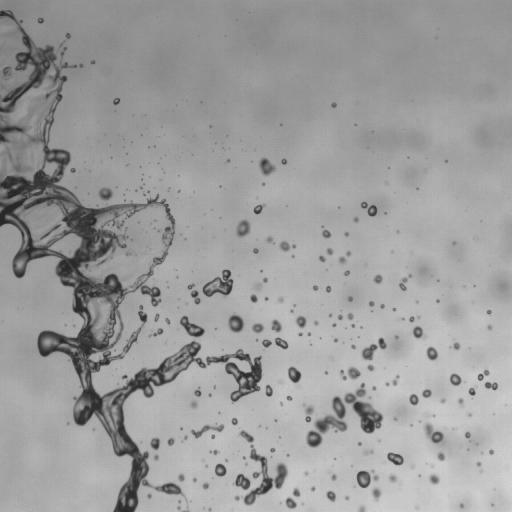droplet: (201, 269, 233, 298), (354, 469, 379, 488), (423, 422, 444, 443), (227, 312, 245, 332), (258, 157, 276, 176), (287, 366, 301, 388), (339, 366, 361, 380), (235, 219, 250, 238), (407, 326, 427, 340), (360, 201, 377, 217), (387, 452, 404, 466), (98, 187, 113, 201), (278, 240, 296, 251), (338, 250, 351, 265), (426, 346, 438, 361), (214, 463, 226, 477), (371, 486, 381, 502), (270, 319, 282, 332), (449, 373, 461, 386), (285, 496, 297, 509), (253, 203, 266, 214), (295, 315, 306, 328), (408, 393, 419, 405), (321, 225, 331, 238), (251, 323, 264, 333), (150, 437, 160, 450), (428, 473, 439, 484), (33, 37, 44, 48), (268, 154, 279, 165), (81, 197, 92, 208), (94, 197, 105, 208), (246, 212, 257, 223), (227, 220, 238, 231), (11, 239, 22, 250), (27, 258, 38, 269), (64, 294, 75, 305), (143, 304, 154, 315), (74, 315, 85, 326), (218, 318, 229, 329), (144, 319, 155, 330), (67, 326, 78, 337), (265, 329, 276, 340), (417, 338, 428, 349), (168, 344, 179, 355), (259, 347, 270, 358), (59, 353, 70, 364), (356, 358, 367, 369), (359, 370, 370, 381), (466, 375, 477, 386), (347, 379, 358, 390), (457, 382, 468, 393), (474, 382, 485, 393), (94, 384, 105, 395), (247, 390, 258, 401), (121, 398, 132, 409), (371, 400, 382, 411), (311, 409, 322, 420), (350, 413, 361, 424), (88, 414, 99, 425), (320, 430, 331, 441), (101, 435, 112, 446), (137, 441, 148, 452), (239, 441, 250, 452), (434, 441, 445, 452), (121, 453, 132, 464), (266, 467, 277, 478), (377, 468, 388, 479), (120, 469, 131, 480), (225, 469, 236, 480), (282, 476, 293, 487), (280, 484, 291, 495), (135, 485, 146, 496), (484, 382, 498, 390), (468, 384, 477, 396), (326, 490, 335, 502), (422, 389, 432, 399), (265, 384, 273, 396), (292, 486, 300, 498), (373, 274, 382, 284), (328, 471, 337, 480), (8, 57, 17, 66), (252, 164, 261, 173), (105, 197, 114, 206), (323, 237, 332, 246), (333, 248, 342, 257), (144, 278, 153, 287), (123, 292, 132, 301), (171, 317, 180, 326), (156, 318, 165, 327), (262, 320, 271, 329), (242, 321, 251, 330), (304, 321, 313, 330), (331, 327, 340, 336), (277, 329, 286, 338), (117, 337, 126, 346), (109, 346, 118, 355), (373, 347, 382, 356), (196, 349, 205, 358), (50, 350, 59, 359), (259, 362, 268, 371), (257, 378, 266, 387), (73, 386, 82, 395), (344, 402, 353, 411), (223, 421, 232, 430), (236, 421, 245, 430), (231, 424, 240, 433), (326, 424, 335, 433), (124, 425, 133, 434), (416, 427, 425, 436), (358, 430, 367, 439), (172, 431, 181, 440), (298, 431, 307, 440), (129, 432, 138, 441), (208, 439, 217, 448), (168, 492, 177, 501), (255, 493, 264, 502), (265, 236, 275, 244), (194, 386, 202, 396), (437, 451, 445, 461), (362, 448, 373, 455), (276, 295, 285, 303), (167, 437, 175, 446), (366, 364, 376, 371), (189, 505, 200, 511), (243, 505, 254, 511), (230, 417, 238, 425), (190, 399, 197, 408), (457, 398, 464, 407), (357, 504, 366, 511), (250, 294, 257, 302), (178, 473, 185, 481), (326, 248, 333, 255), (318, 255, 325, 262), (202, 482, 209, 489), (1, 15, 8, 22), (27, 31, 34, 38), (20, 45, 27, 52), (82, 59, 89, 66), (59, 68, 66, 75), (47, 142, 54, 149), (253, 158, 260, 165), (63, 164, 70, 171), (268, 171, 275, 178), (261, 174, 268, 181), (236, 214, 243, 221), (2, 222, 9, 229), (248, 223, 255, 230), (243, 233, 250, 240), (274, 237, 281, 244), (11, 246, 18, 253), (167, 246, 174, 253), (53, 256, 60, 263), (341, 263, 348, 270), (152, 265, 159, 272), (53, 275, 60, 282), (195, 284, 202, 291), (318, 284, 325, 291), (66, 285, 73, 292), (197, 291, 204, 298), (143, 293, 150, 300), (256, 294, 263, 301), (373, 300, 380, 307), (372, 303, 379, 310), (384, 303, 391, 310), (117, 304, 124, 311), (153, 305, 160, 312), (235, 309, 242, 316), (293, 310, 300, 317), (223, 312, 230, 319), (146, 313, 153, 320), (330, 315, 337, 322), (412, 319, 419, 326), (408, 321, 415, 328), (47, 324, 54, 331), (294, 325, 301, 332), (300, 326, 307, 333), (237, 329, 244, 336), (186, 335, 193, 342), (194, 335, 201, 342), (214, 350, 221, 357), (124, 351, 131, 358), (363, 358, 370, 365), (190, 360, 197, 367), (152, 361, 159, 368), (218, 361, 225, 368), (67, 362, 74, 369), (90, 371, 97, 378), (127, 372, 134, 379), (334, 373, 341, 380), (227, 374, 234, 381), (482, 375, 489, 382), (119, 379, 126, 386), (231, 382, 238, 389), (363, 384, 370, 391), (259, 386, 266, 393), (135, 388, 142, 395), (417, 394, 424, 401), (355, 395, 362, 402), (122, 410, 129, 417), (329, 410, 336, 417), (67, 415, 74, 422), (341, 415, 348, 422), (427, 417, 434, 424), (69, 420, 76, 427), (193, 424, 200, 431), (432, 424, 439, 431), (97, 425, 104, 432), (204, 429, 211, 436), (239, 436, 246, 443), (424, 437, 431, 444), (300, 438, 307, 445), (158, 440, 165, 447), (316, 443, 323, 450), (311, 445, 318, 452), (138, 446, 145, 453), (147, 447, 154, 454), (155, 447, 162, 454), (255, 448, 262, 455), (243, 449, 250, 456), (431, 455, 438, 462), (145, 457, 152, 464), (285, 465, 292, 472), (433, 469, 440, 476), (244, 471, 251, 478), (144, 473, 151, 480), (184, 474, 191, 481), (158, 478, 165, 485), (173, 478, 180, 485), (196, 478, 203, 485), (437, 478, 444, 485), (368, 480, 375, 487), (425, 480, 432, 487), (390, 481, 397, 488), (269, 485, 276, 492), (158, 490, 165, 497), (109, 500, 116, 507), (347, 312, 353, 320), (164, 317, 170, 325), (154, 313, 159, 322), (37, 17, 44, 23), (113, 98, 119, 105), (325, 285, 331, 292), (408, 316, 415, 322), (286, 394, 292, 401), (440, 397, 447, 403), (464, 431, 470, 438), (281, 158, 287, 164), (353, 216, 359, 222), (337, 314, 343, 320), (486, 324, 492, 330), (152, 454, 158, 460), (0, 141, 4, 150), (65, 32, 70, 39), (312, 285, 319, 290), (486, 309, 491, 316), (331, 102, 336, 108), (141, 250, 147, 255), (344, 270, 350, 275), (347, 296, 353, 301), (368, 301, 374, 306), (313, 320, 318, 326), (350, 344, 356, 349), (277, 379, 283, 384), (210, 433, 215, 439), (489, 449, 494, 455), (476, 461, 481, 467), (410, 463, 415, 469), (152, 218, 159, 222), (133, 507, 140, 511), (288, 507, 295, 511), (351, 507, 358, 511), (364, 507, 371, 511), (70, 167, 75, 172), (253, 248, 258, 253), (380, 304, 385, 309), (372, 385, 377, 390), (357, 441, 362, 446), (192, 477, 197, 482), (310, 486, 315, 491), (344, 495, 349, 500), (459, 503, 464, 508), (13, 13, 18, 18), (20, 22, 25, 27), (48, 41, 53, 46), (40, 44, 45, 49), (63, 50, 68, 55), (66, 75, 71, 80), (62, 81, 67, 86), (53, 110, 58, 115), (62, 145, 67, 150), (69, 153, 74, 158), (137, 180, 142, 185), (142, 185, 147, 190), (68, 186, 73, 191), (137, 189, 142, 194), (150, 194, 155, 199), (125, 198, 130, 203), (376, 208, 381, 213), (169, 209, 174, 214), (351, 212, 356, 217), (348, 215, 353, 220), (370, 215, 375, 220), (174, 219, 179, 224), (352, 221, 357, 226), (327, 227, 332, 232), (16, 231, 21, 236), (263, 232, 268, 237), (321, 236, 326, 241), (287, 240, 292, 245), (267, 242, 272, 247), (329, 244, 334, 249), (288, 247, 293, 252), (279, 249, 284, 254), (340, 251, 345, 256), (322, 252, 327, 257), (42, 255, 47, 260), (164, 255, 169, 260), (344, 255, 349, 260), (316, 259, 321, 264), (7, 263, 12, 268), (9, 271, 14, 276), (23, 271, 28, 276), (217, 272, 222, 277), (260, 272, 265, 277), (380, 272, 385, 277), (402, 272, 407, 277), (370, 273, 375, 278), (208, 275, 213, 280), (257, 277, 262, 282), (380, 279, 385, 284), (200, 280, 205, 285), (313, 280, 318, 285), (261, 281, 266, 286), (403, 281, 408, 286), (373, 282, 378, 287), (191, 285, 196, 290), (330, 285, 335, 290), (135, 288, 140, 293), (159, 288, 164, 293), (186, 288, 191, 293), (229, 289, 234, 294), (214, 291, 219, 296), (279, 291, 284, 296), (158, 293, 163, 298), (189, 296, 194, 301), (245, 296, 250, 301), (342, 296, 347, 301), (369, 296, 374, 301), (363, 300, 368, 305), (157, 301, 162, 306), (277, 302, 282, 307), (141, 308, 146, 313), (227, 311, 232, 316), (74, 312, 79, 317), (301, 312, 306, 317), (177, 313, 182, 318), (342, 314, 347, 319), (313, 315, 318, 320), (404, 315, 409, 320), (276, 317, 281, 322), (188, 318, 193, 323), (255, 318, 260, 323), (317, 318, 322, 323), (350, 318, 355, 323), (137, 319, 142, 324), (335, 319, 340, 324), (194, 320, 199, 325), (490, 321, 495, 326), (354, 322, 359, 327), (482, 322, 487, 327), (419, 323, 424, 328), (280, 325, 285, 330), (132, 326, 137, 331), (180, 326, 185, 331), (152, 327, 157, 332), (421, 328, 426, 333), (486, 329, 491, 334), (33, 333, 38, 338), (409, 333, 414, 338), (417, 336, 422, 341), (337, 337, 342, 342), (257, 338, 262, 343), (383, 338, 388, 343), (32, 339, 37, 344), (373, 339, 378, 344), (457, 339, 462, 344), (270, 341, 275, 346), (426, 342, 431, 347), (433, 344, 438, 349), (276, 345, 281, 350), (458, 345, 463, 350), (33, 346, 38, 351), (422, 346, 427, 351), (435, 347, 440, 352), (450, 347, 455, 352), (231, 348, 236, 353), (242, 348, 247, 353), (110, 351, 115, 356), (422, 352, 427, 357), (436, 353, 441, 358), (40, 355, 45, 360), (424, 356, 429, 361), (432, 358, 437, 363), (109, 360, 114, 365), (209, 361, 214, 366), (99, 364, 104, 369), (197, 366, 202, 371), (296, 366, 301, 371), (134, 367, 139, 372), (478, 368, 483, 373), (299, 370, 304, 375), (343, 370, 348, 375), (283, 371, 288, 376), (457, 371, 462, 376), (176, 373, 181, 378), (445, 373, 450, 378), (459, 374, 464, 379), (298, 377, 303, 382), (396, 378, 401, 383), (445, 378, 450, 383), (287, 379, 292, 384), (162, 382, 167, 387), (388, 382, 393, 387), (425, 384, 430, 389), (451, 384, 456, 389), (496, 384, 501, 389), (420, 385, 425, 390), (199, 387, 204, 392), (208, 387, 213, 392), (487, 387, 492, 392), (430, 388, 435, 393), (474, 388, 479, 393), (252, 390, 257, 395), (149, 395, 154, 400), (193, 395, 198, 400), (239, 395, 244, 400), (444, 395, 449, 400), (425, 396, 430, 401), (282, 398, 287, 403), (70, 399, 75, 404), (185, 399, 190, 404), (453, 399, 458, 404), (327, 400, 332, 405), (305, 401, 310, 406), (406, 401, 411, 406), (441, 402, 446, 407), (187, 406, 192, 411), (301, 412, 306, 417), (379, 419, 384, 424), (208, 421, 213, 426), (373, 427, 378, 432), (221, 428, 226, 433), (358, 428, 363, 433), (212, 429, 217, 434), (247, 430, 252, 435), (152, 433, 157, 438), (189, 433, 194, 438), (173, 439, 178, 444), (251, 439, 256, 444), (437, 440, 442, 445), (359, 444, 364, 449), (215, 445, 220, 450), (108, 446, 113, 451), (483, 449, 488, 454), (443, 452, 448, 457), (367, 453, 372, 458), (113, 454, 118, 459), (157, 455, 162, 460), (476, 456, 481, 461), (219, 459, 224, 464), (440, 459, 445, 464), (256, 460, 261, 465), (388, 461, 393, 466), (223, 462, 228, 467), (480, 462, 485, 467), (210, 464, 215, 469), (394, 464, 399, 469), (474, 465, 479, 470), (358, 466, 363, 471), (331, 468, 336, 473), (374, 469, 379, 474), (210, 470, 215, 475), (352, 471, 357, 476), (221, 474, 226, 479), (217, 475, 222, 480), (231, 475, 236, 480), (335, 475, 340, 480), (164, 478, 169, 483), (352, 479, 357, 484), (355, 484, 360, 489), (115, 486, 120, 491), (180, 487, 185, 492), (245, 488, 250, 493), (298, 488, 303, 493), (332, 488, 337, 493), (321, 491, 326, 496), (334, 494, 339, 499), (378, 494, 383, 499), (291, 495, 296, 500), (281, 496, 286, 501), (238, 497, 243, 502), (325, 498, 330, 503), (281, 501, 286, 506), (180, 504, 185, 509), (297, 332, 303, 336), (305, 332, 311, 336), (0, 37, 3, 44), (90, 60, 95, 64), (225, 158, 230, 162), (264, 296, 268, 301), (290, 309, 295, 313), (332, 322, 336, 327), (350, 323, 355, 327), (333, 338, 338, 342), (393, 416, 397, 421), (270, 448, 275, 452), (382, 460, 387, 464), (304, 470, 308, 475), (147, 493, 151, 498), (79, 63, 83, 67), (261, 182, 265, 186), (396, 229, 400, 233), (344, 232, 348, 236), (452, 241, 456, 245), (328, 313, 332, 317), (394, 335, 398, 339), (324, 370, 328, 374), (385, 382, 389, 386), (479, 469, 483, 473), (300, 502, 304, 506), (280, 401, 283, 406), (468, 412, 471, 417), (452, 427, 457, 430), (376, 439, 381, 442), (225, 458, 228, 463), (244, 461, 247, 466), (429, 464, 434, 467), (203, 508, 208, 511), (458, 508, 463, 511), (384, 181, 388, 184), (137, 219, 140, 223), (149, 222, 152, 226), (291, 254, 294, 258), (462, 285, 466, 288), (436, 299, 439, 303), (392, 308, 396, 311), (417, 315, 420, 319), (360, 325, 363, 329), (208, 393, 211, 397), (367, 396, 371, 399), (66, 421, 69, 425), (92, 427, 95, 431), (286, 453, 289, 457), (242, 456, 246, 459), (205, 464, 208, 468), (208, 507, 211, 511), (414, 506, 418, 509), (0, 6, 2, 11), (0, 66, 2, 71), (0, 162, 2, 167), (354, 123, 357, 126), (387, 166, 390, 169), (139, 186, 142, 189), (416, 187, 419, 190), (337, 206, 340, 209), (390, 250, 393, 253), (436, 279, 439, 282), (166, 285, 169, 288), (415, 300, 418, 303), (185, 302, 188, 305), (293, 304, 296, 307), (64, 323, 67, 326), (72, 324, 75, 327), (214, 327, 217, 330), (255, 338, 258, 341), (274, 419, 277, 422), (418, 420, 421, 423), (258, 424, 261, 427), (480, 451, 483, 454), (333, 457, 336, 460), (350, 464, 353, 467), (418, 474, 421, 477), (279, 501, 282, 504), (491, 503, 494, 506), (39, 14, 42, 17), (42, 16, 45, 19), (21, 17, 24, 20), (34, 19, 37, 22), (39, 22, 42, 25), (66, 29, 69, 32), (63, 31, 66, 34), (69, 32, 72, 35), (63, 36, 66, 39), (69, 36, 72, 39), (90, 57, 93, 60), (80, 60, 83, 63), (94, 60, 97, 63), (67, 62, 70, 65), (90, 63, 93, 66), (2, 64, 5, 67), (76, 64, 79, 67), (59, 91, 62, 94), (115, 94, 118, 97), (111, 96, 114, 99), (58, 100, 61, 103), (118, 100, 121, 103), (329, 100, 332, 103), (110, 101, 113, 104), (115, 103, 118, 106), (335, 104, 338, 107), (330, 106, 333, 109), (354, 120, 357, 123), (51, 122, 54, 125), (276, 122, 279, 125), (205, 124, 208, 127), (352, 125, 355, 128), (209, 127, 212, 130), (149, 144, 152, 147), (127, 152, 130, 155), (444, 156, 447, 159), (229, 157, 232, 160), (223, 158, 226, 161), (447, 159, 450, 162), (286, 160, 289, 163), (444, 162, 447, 165), (280, 163, 283, 166), (127, 164, 130, 167), (74, 167, 77, 170), (72, 171, 75, 174), (139, 174, 142, 177), (137, 177, 140, 180), (142, 178, 145, 181), (218, 181, 221, 184), (258, 182, 261, 185), (264, 183, 267, 186), (221, 184, 224, 187), (417, 184, 420, 187), (261, 185, 264, 188), (136, 186, 139, 189), (216, 186, 219, 189), (412, 186, 415, 189), (131, 188, 134, 191), (168, 188, 171, 191), (174, 188, 177, 191), (415, 189, 418, 192), (177, 192, 180, 195), (156, 198, 159, 201), (359, 199, 362, 202), (132, 200, 135, 203), (256, 201, 259, 204), (253, 203, 256, 206), (357, 203, 360, 206), (375, 204, 378, 207), (364, 207, 367, 210), (250, 208, 253, 211), (260, 209, 263, 212), (251, 211, 254, 214), (257, 212, 260, 215), (344, 228, 347, 231), (348, 232, 351, 235), (172, 233, 175, 236), (342, 234, 345, 237), (272, 238, 275, 241), (171, 239, 174, 242), (169, 244, 172, 247), (295, 244, 298, 247), (255, 245, 258, 248), (250, 247, 253, 250), (349, 249, 352, 252), (257, 250, 260, 253), (250, 251, 253, 254), (294, 254, 297, 257), (224, 266, 227, 269), (259, 266, 262, 269), (411, 272, 414, 275), (347, 273, 350, 276), (172, 275, 175, 278), (435, 276, 438, 279), (267, 278, 270, 281), (439, 278, 442, 281), (188, 281, 191, 284), (436, 281, 439, 284), (473, 281, 476, 284), (167, 282, 170, 285), (327, 282, 330, 285), (469, 283, 472, 286), (184, 284, 187, 287), (309, 285, 312, 288), (397, 286, 400, 289), (473, 286, 476, 289), (312, 289, 315, 292), (315, 289, 318, 292), (325, 291, 328, 294), (328, 291, 331, 294), (266, 294, 269, 297), (266, 299, 269, 302), (351, 299, 354, 302), (432, 299, 435, 302), (439, 299, 442, 302), (292, 300, 295, 303), (347, 300, 350, 303), (380, 300, 383, 303), (418, 300, 421, 303), (383, 302, 386, 305), (436, 302, 439, 305), (392, 304, 395, 307), (290, 306, 293, 309), (369, 306, 372, 309), (383, 306, 386, 309), (487, 306, 490, 309), (395, 307, 398, 310), (287, 308, 290, 311), (391, 310, 394, 313), (483, 310, 486, 313), (326, 311, 329, 314), (370, 311, 373, 314), (490, 312, 493, 315), (400, 314, 403, 317), (136, 315, 139, 318), (167, 316, 170, 319), (169, 319, 172, 322), (400, 319, 403, 322), (213, 324, 216, 327), (362, 324, 365, 327), (334, 325, 337, 328), (348, 325, 351, 328), (140, 327, 143, 330), (351, 327, 354, 330), (359, 328, 362, 331), (215, 329, 218, 332), (161, 331, 164, 334), (310, 331, 313, 334), (395, 332, 398, 335), (320, 334, 323, 337), (150, 335, 153, 338), (298, 335, 301, 338), (307, 335, 310, 338), (335, 335, 338, 338), (331, 336, 334, 339), (136, 337, 139, 340), (283, 337, 286, 340), (397, 337, 400, 340), (317, 338, 320, 341), (286, 340, 289, 343), (309, 340, 312, 343), (333, 341, 336, 344), (351, 341, 354, 344), (450, 343, 453, 346), (261, 345, 264, 348), (308, 345, 311, 348), (349, 347, 352, 350), (122, 356, 125, 359), (326, 368, 329, 371), (337, 368, 340, 371), (488, 369, 491, 372), (321, 371, 324, 374), (121, 372, 124, 375), (474, 374, 477, 377), (341, 379, 344, 382), (382, 380, 385, 383), (372, 382, 375, 385), (269, 384, 272, 387), (383, 384, 386, 387), (215, 385, 218, 388), (375, 387, 378, 390), (210, 391, 213, 394), (271, 392, 274, 395), (289, 393, 292, 396), (264, 394, 267, 397), (470, 394, 473, 397), (268, 395, 271, 398), (283, 395, 286, 398), (207, 396, 210, 399), (228, 398, 231, 401), (276, 402, 279, 405), (219, 409, 222, 412), (214, 411, 217, 414), (430, 411, 433, 414), (433, 411, 436, 414), (471, 413, 474, 416), (232, 414, 235, 417), (274, 415, 277, 418), (395, 415, 398, 418), (434, 415, 437, 418), (468, 416, 471, 419), (236, 417, 239, 420), (302, 418, 305, 421), (271, 419, 274, 422), (276, 419, 279, 422), (391, 419, 394, 422), (409, 420, 412, 423), (230, 423, 233, 426), (261, 424, 264, 427), (409, 426, 412, 429), (176, 427, 179, 430), (337, 429, 340, 432), (462, 431, 465, 434), (181, 434, 184, 437), (280, 434, 283, 437), (462, 435, 465, 438), (275, 436, 278, 439), (465, 437, 468, 440), (211, 438, 214, 441), (278, 438, 281, 441), (183, 439, 186, 442), (354, 441, 357, 444), (270, 444, 273, 447), (368, 446, 371, 449), (491, 446, 494, 449), (274, 447, 277, 450), (373, 449, 376, 452), (393, 450, 396, 453), (493, 450, 496, 453), (271, 451, 274, 454), (288, 451, 291, 454), (283, 452, 286, 455), (491, 453, 494, 456), (332, 454, 335, 457), (226, 456, 229, 459), (239, 456, 242, 459), (335, 456, 338, 459), (242, 459, 245, 462), (332, 459, 335, 462), (201, 463, 204, 466), (473, 463, 476, 466), (302, 468, 305, 471), (301, 472, 304, 475), (415, 472, 418, 475), (307, 473, 310, 476), (195, 475, 198, 478), (416, 476, 419, 479), (309, 484, 312, 487), (206, 487, 209, 490), (314, 487, 317, 490), (344, 492, 347, 495), (348, 496, 351, 499), (186, 497, 189, 500), (344, 499, 347, 502), (460, 500, 463, 503), (491, 500, 494, 503), (187, 501, 190, 504), (176, 502, 179, 505), (487, 502, 490, 505), (463, 504, 466, 507), (491, 506, 494, 509), (187, 507, 190, 510), (213, 385, 215, 389), (280, 123, 282, 126), (209, 125, 212, 127), (110, 156, 112, 159), (444, 160, 447, 162), (126, 163, 128, 166), (134, 189, 137, 191), (147, 190, 149, 193), (384, 212, 387, 214), (260, 269, 262, 272), (473, 284, 475, 287), (370, 310, 373, 312), (344, 327, 347, 329), (221, 348, 223, 351), (218, 411, 220, 414), (410, 424, 413, 426), (180, 427, 182, 430), (265, 426, 267, 429), (278, 436, 281, 438), (270, 455, 272, 458), (176, 509, 179, 511), (210, 509, 213, 511), (407, 156, 409, 158), (157, 162, 159, 164), (219, 185, 221, 187), (115, 186, 117, 188), (184, 238, 186, 240), (176, 276, 178, 278), (177, 306, 179, 308), (319, 337, 321, 339), (357, 336, 359, 338), (493, 413, 495, 415), (140, 441, 142, 443), (154, 145, 155, 147), (139, 166, 141, 167), (142, 173, 143, 175), (178, 174, 179, 176), (141, 178, 142, 180), (143, 183, 144, 185), (193, 191, 195, 192), (326, 269, 327, 271), (166, 281, 168, 282), (310, 343, 311, 345), (469, 440, 470, 442), (219, 217, 220, 218), (340, 310, 341, 311), (471, 398, 472, 399), (203, 507, 204, 508)
ligament: (360, 337, 386, 361), (190, 423, 224, 438), (261, 337, 288, 349), (187, 283, 201, 305), (302, 401, 314, 423), (398, 274, 412, 291), (251, 277, 268, 291), (388, 473, 401, 489), (477, 368, 489, 381), (148, 328, 163, 337), (391, 374, 399, 386), (209, 449, 220, 455), (181, 434, 187, 442), (425, 413, 435, 417), (398, 317, 405, 321), (146, 245, 151, 249), (176, 189, 180, 193), (167, 187, 170, 191), (143, 192, 145, 196), (466, 448, 469, 450), (352, 485, 355, 487), (123, 192, 124, 195), (126, 189, 128, 190)
